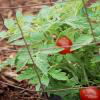Tomato leaf: (15, 52, 37, 73), (70, 34, 97, 51), (31, 54, 51, 75), (64, 18, 95, 30), (44, 83, 74, 95), (47, 68, 69, 82), (14, 67, 37, 80), (6, 31, 26, 44), (38, 5, 54, 20), (39, 45, 63, 54), (29, 31, 44, 44), (63, 53, 80, 63), (13, 10, 23, 23), (4, 19, 16, 29)
